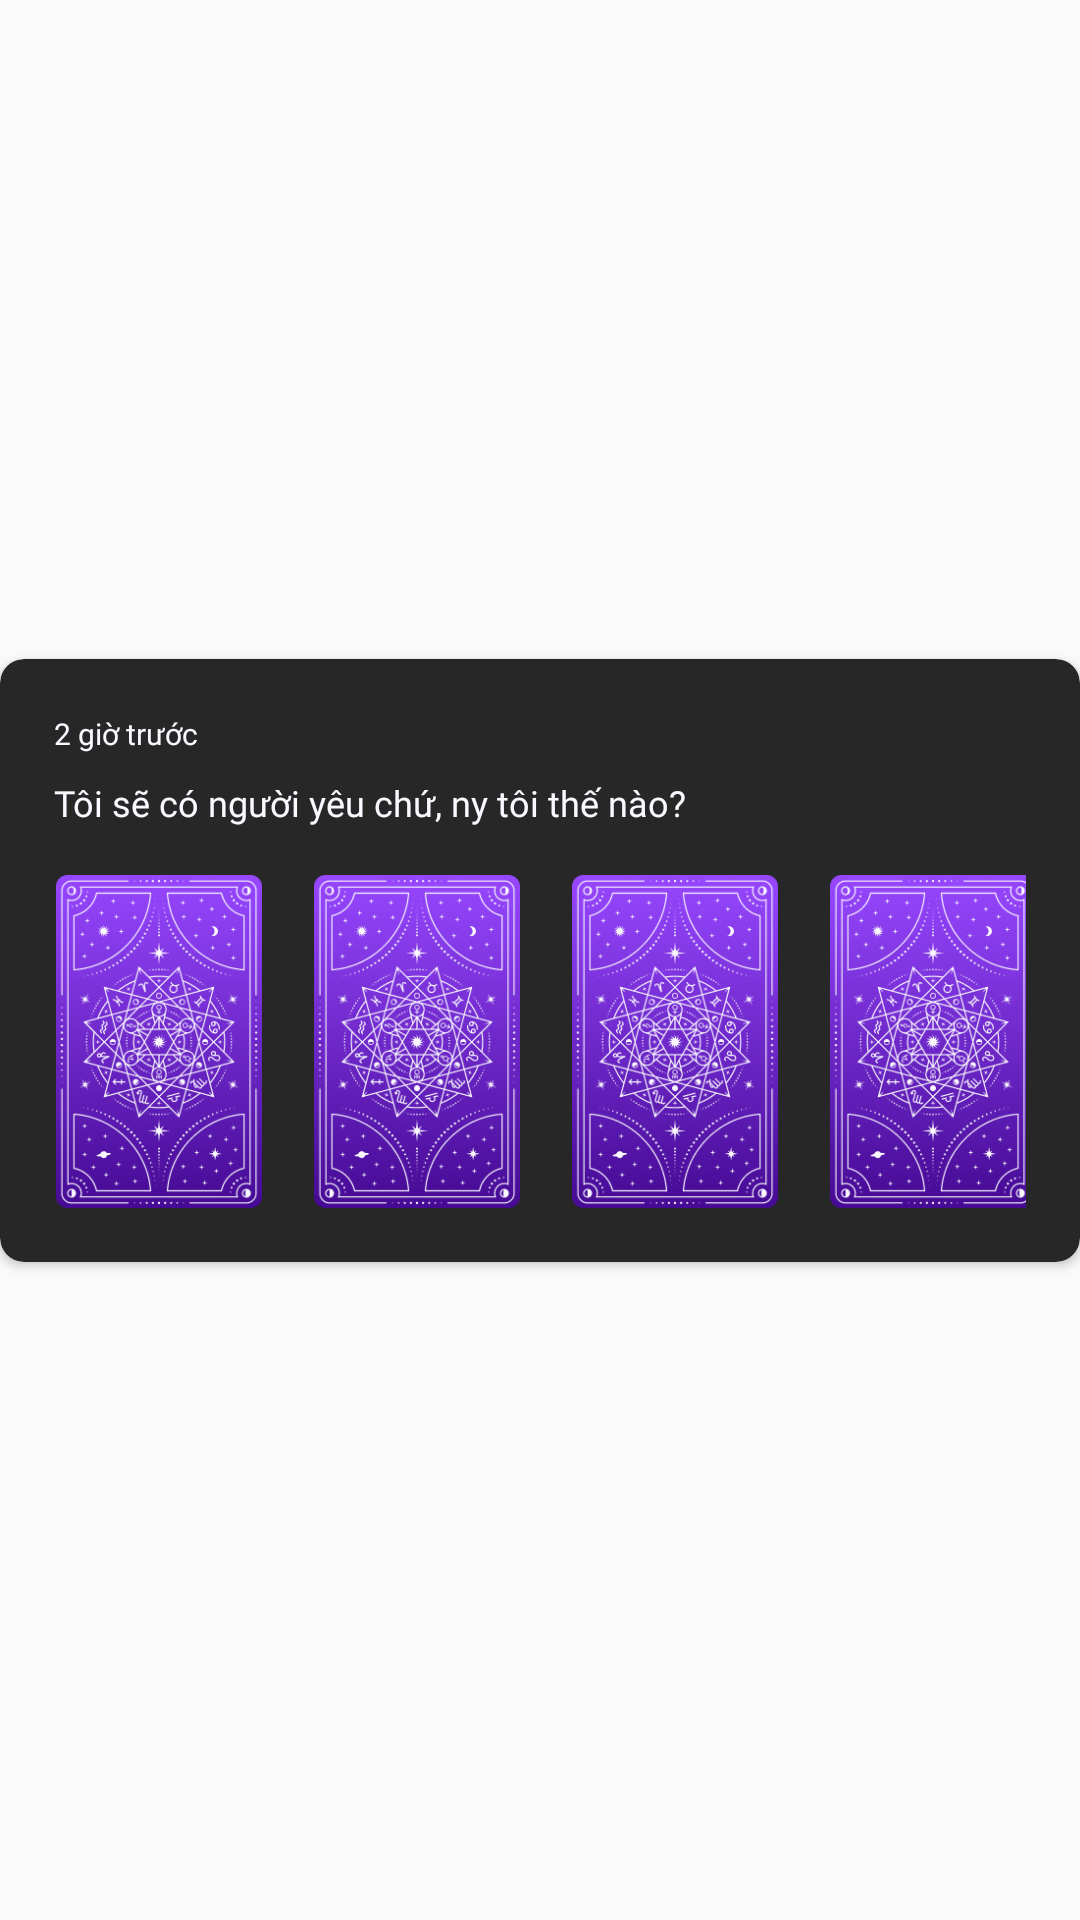

Locate icon controls on the screen. Image size 1080px x 1920px, boxes as (x1, y1, x2, y2).
tarot card back: (56, 875, 262, 1208), (314, 875, 520, 1208), (572, 875, 778, 1208), (830, 875, 1026, 1208)
